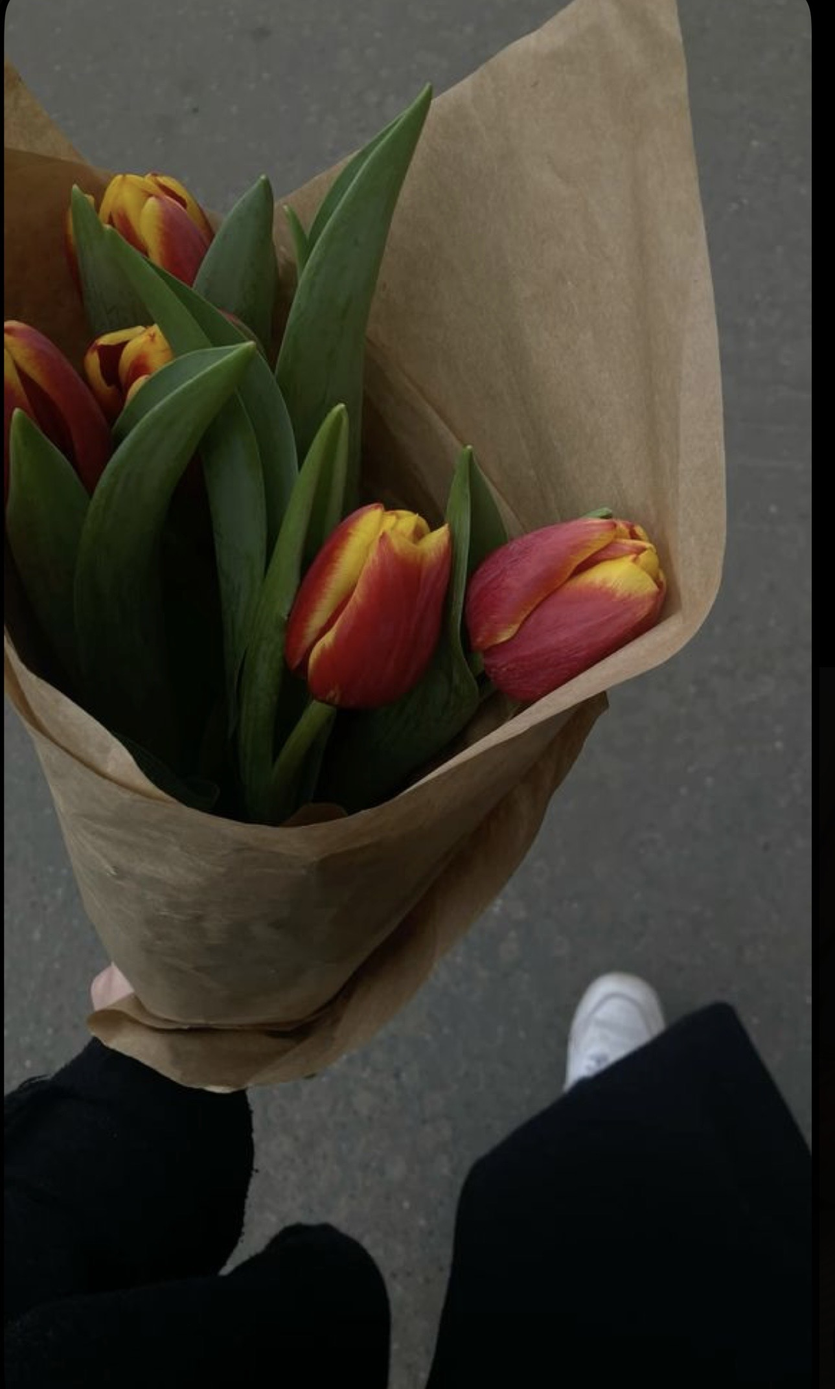tulip: (456, 503, 690, 715), (269, 487, 462, 717), (51, 149, 273, 311), (4, 311, 127, 520), (84, 309, 271, 433)
